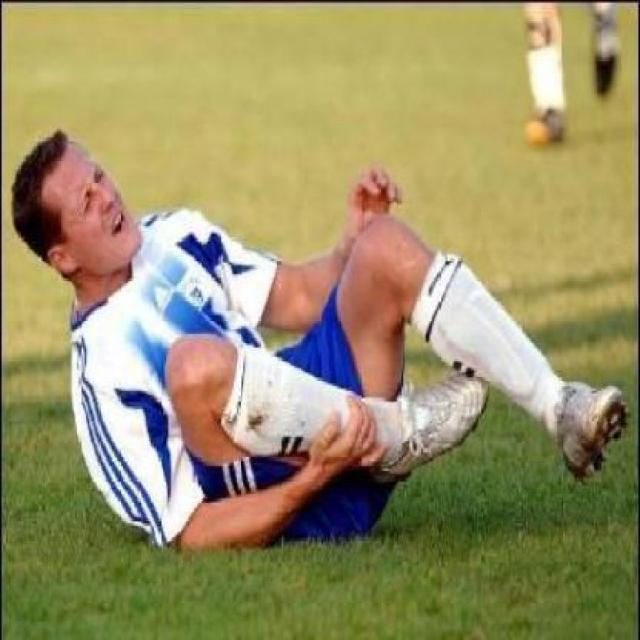fall: (21, 80, 613, 558)
